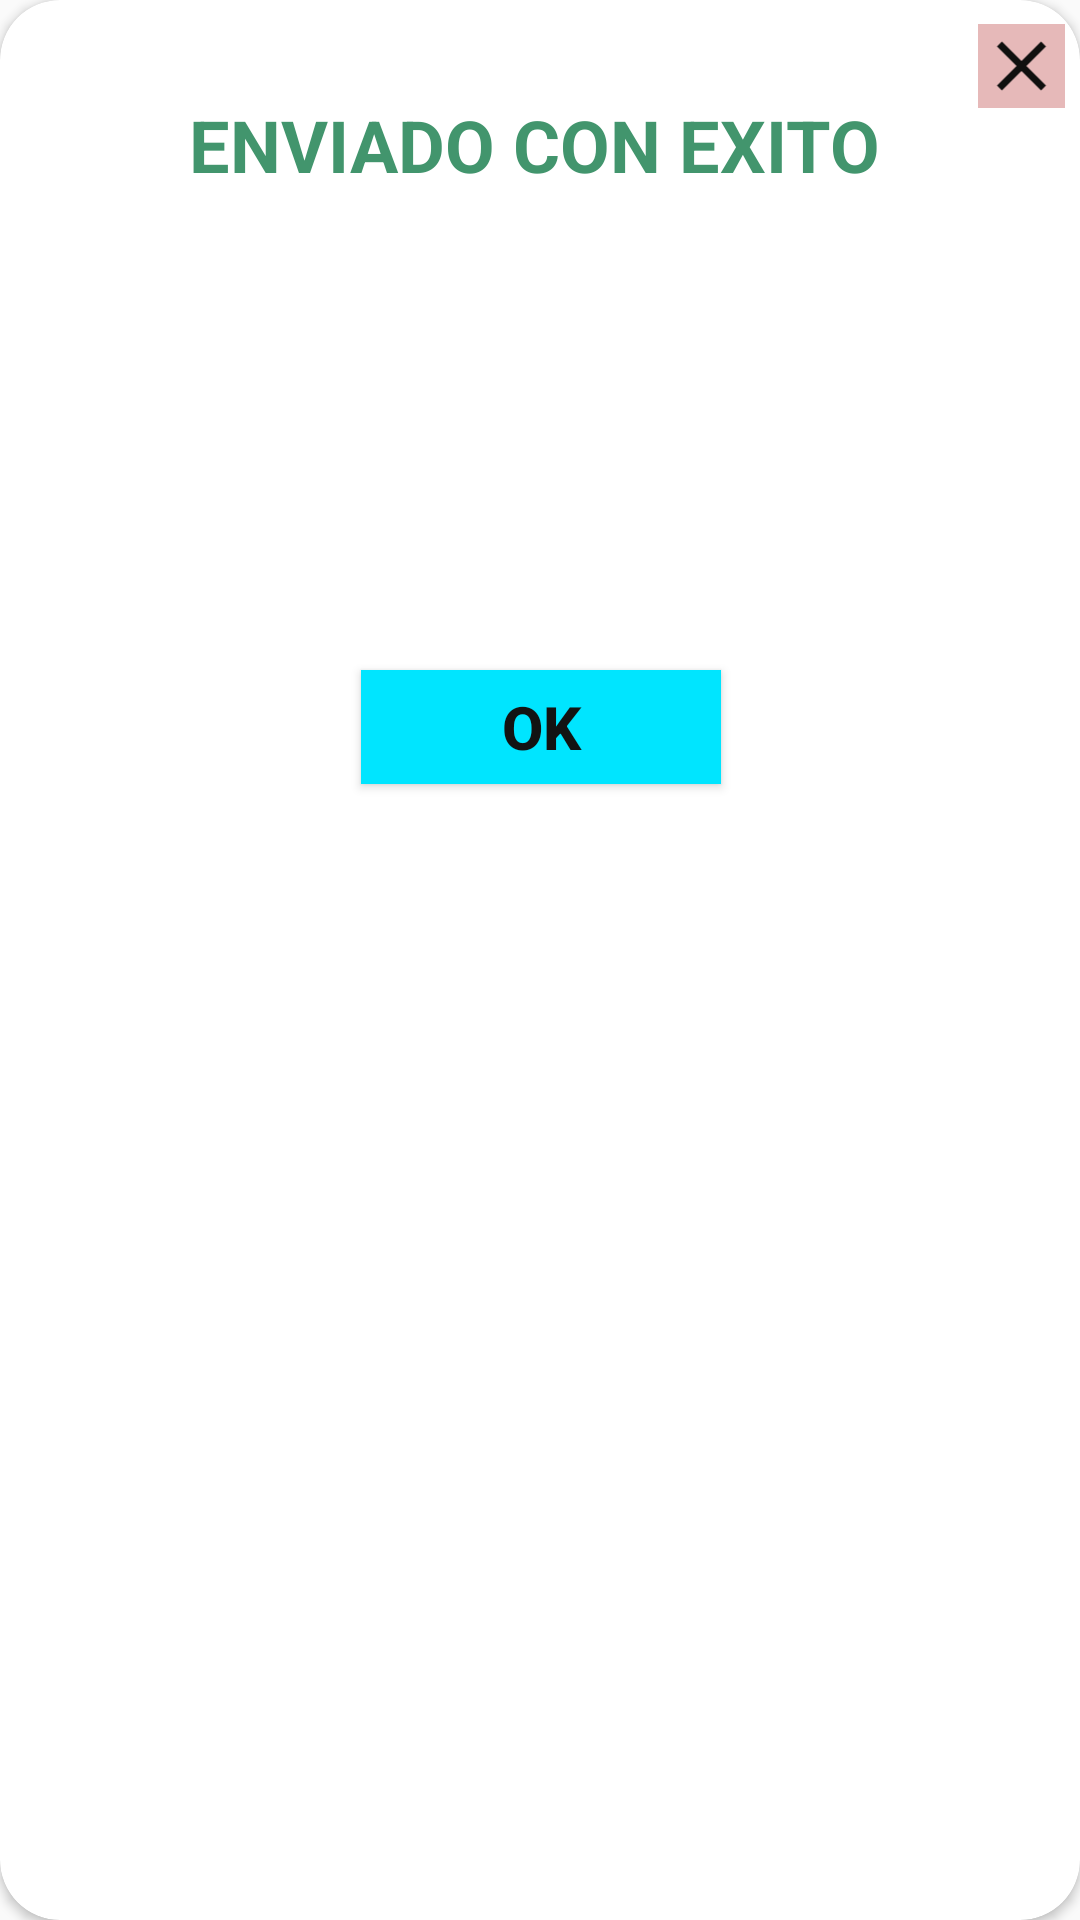

Point at icon controls on the screen. Image size 1080x1920, points as (x=x, y=y).
close: (x=1021, y=66)
